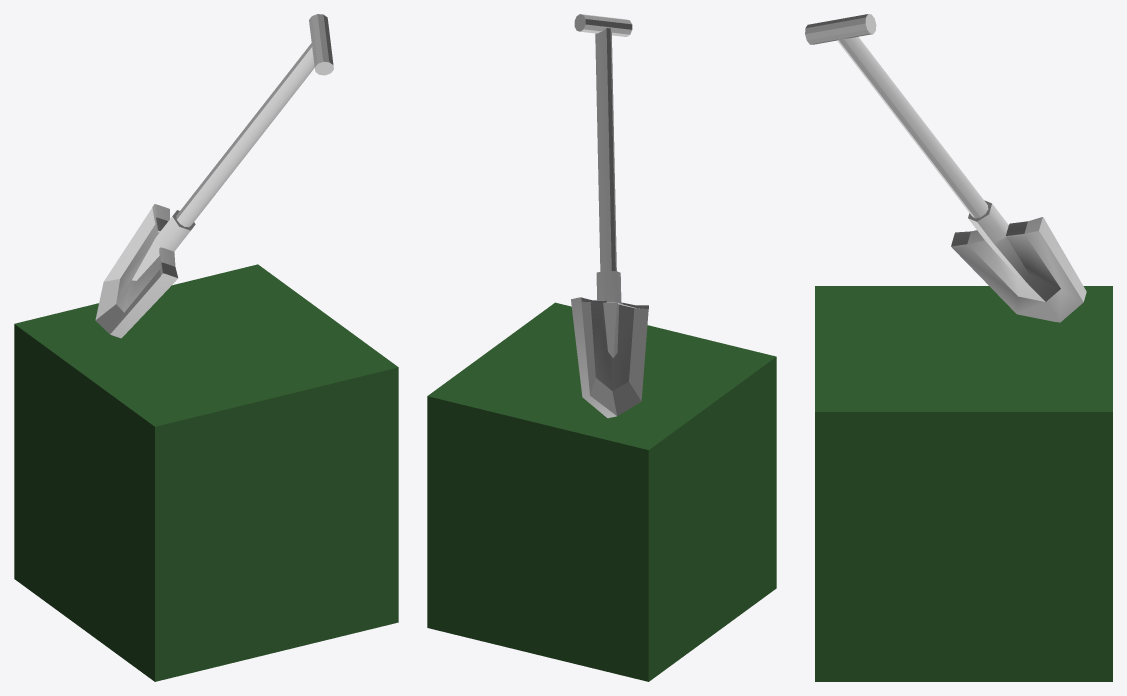
File: lopata.obj
The picture shows the model from 3 angles, left to right: view 1: azimuth 30°, elevation 25°; view 2: azimuth 150°, elevation 25°; view 3: azimuth 270°, elevation 25°; orthographic projection. The views are drawn at different scales.
Visible parts, largest first — view 1: Box001.061, Cylinder_022, Cylinder_021, Cylinder_019; view 2: Box001.061, Cylinder_022, Cylinder_021, Cylinder_019; view 3: Box001.061, Cylinder_022, Cylinder_021, Cylinder_019.
Boxes of the visible parts, box(x1,y1,x2,y2) form: Box001.061: box(14, 264, 398, 681); Cylinder_022: box(95, 204, 195, 338); Cylinder_021: box(176, 43, 314, 227); Cylinder_019: box(309, 14, 333, 75); Box001.061: box(427, 302, 776, 681); Cylinder_022: box(571, 271, 648, 418); Cylinder_021: box(595, 28, 616, 271); Cylinder_019: box(574, 14, 632, 36); Box001.061: box(815, 286, 1112, 681); Cylinder_022: box(951, 200, 1086, 322); Cylinder_021: box(837, 36, 988, 218); Cylinder_019: box(805, 14, 876, 44).
Size of the model in its own units: 0.254 by 0.6011 by 0.2625.
